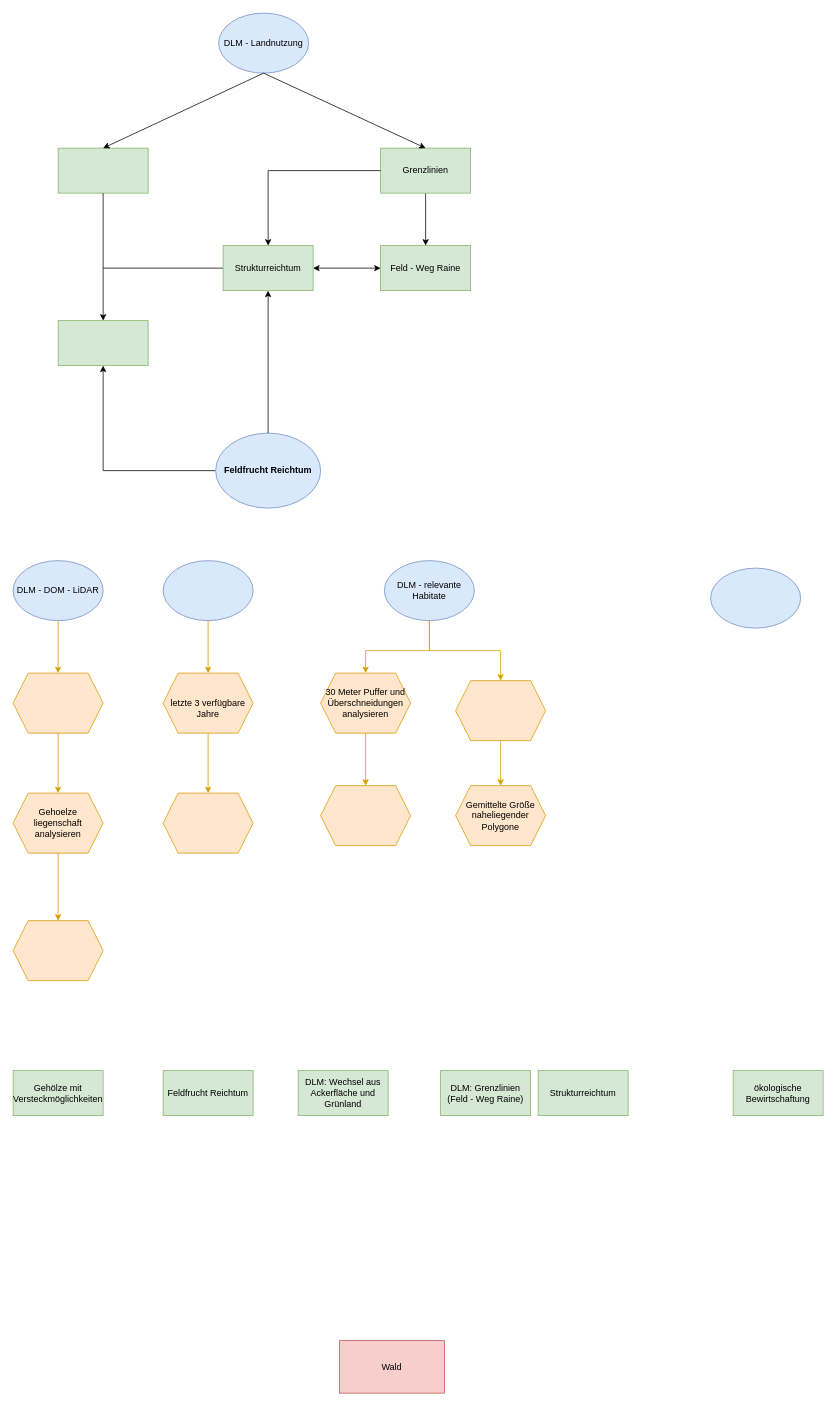
Some shapes in this 836 by 1406 pixel diagram are drawn without their labels. Each missing label, with the centre of its shape:
"50 Meter Puffer und Überschneidungen analysieren" goes at [500,710].
"Acker und Grünland in vorhanden?" goes at [365,815].
"Gehoelze aus nDOM erkennen" goes at [57,702].
"Landnutzung" goes at [102,170].
"Mittelwert unterschiedlicher Ackerfrüchte pro Ha." goes at [207,822].
"Thuene Feldfrüchte" goes at [207,590].
"Thuene Mahd-daten" goes at [755,597].
"Unterbewuchs mit LiDAR-Daten analysieren" goes at [57,950].
"Vielseitiges Habitatsangebot" goes at [102,343].
